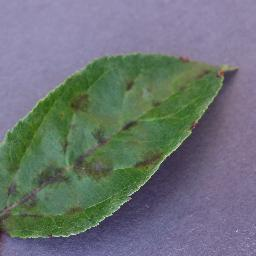apple healthy: (0, 50, 238, 240)
